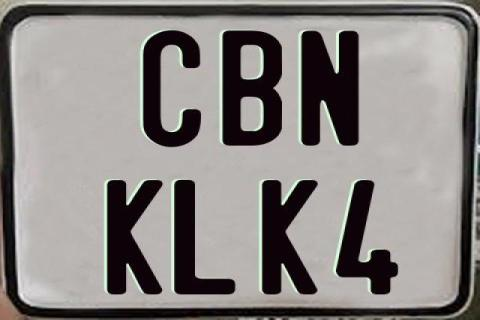0: (335, 180, 402, 298)
B: (220, 29, 285, 147)
C: (140, 29, 201, 147)
K: (104, 180, 162, 298), (262, 179, 318, 293)
L: (171, 179, 233, 297)
N: (298, 28, 359, 147)
